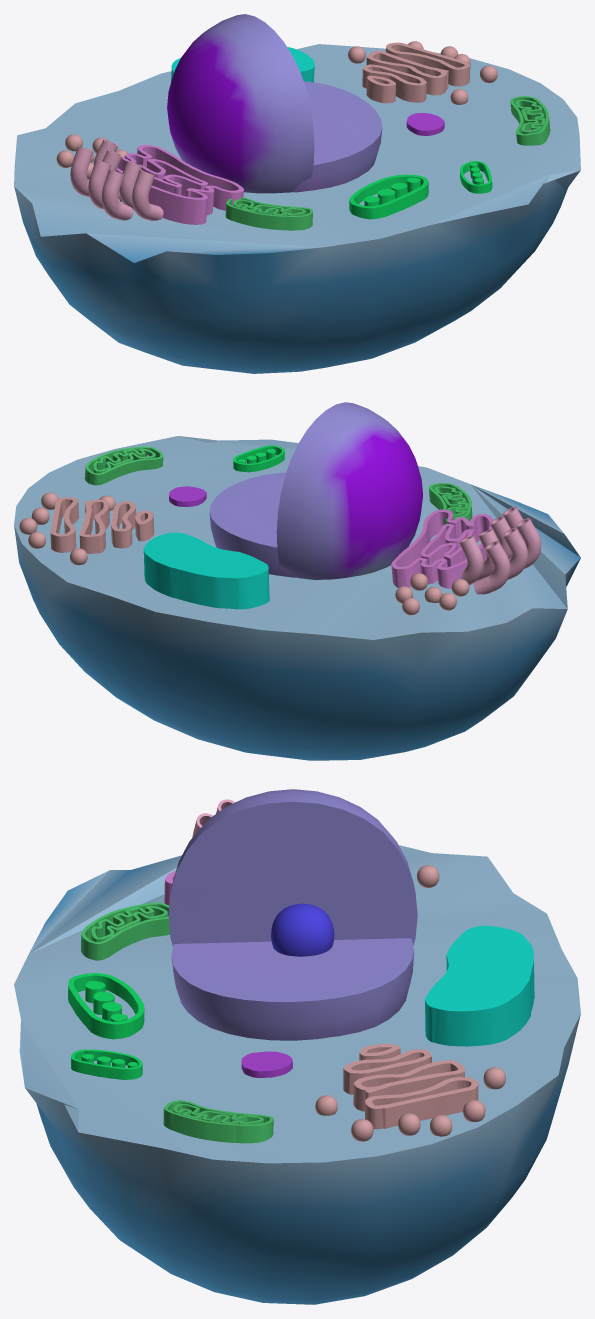
File: modelo-ligero.glb
3 views of the same model, one above another, from view 1: azimuth 30°, elevation 25°; view 2: azimuth 150°, elevation 25°; view 3: azimuth 270°, elevation 25° (orthographic). The views are drawn at different scales.
Parts seen in each view (by area): view 1: Object_2; view 2: Object_2; view 3: Object_2.
Boxes of the visible parts, left/top/right/bottom form: Object_2: left=14, top=14, right=580, bottom=373; Object_2: left=14, top=402, right=580, bottom=760; Object_2: left=14, top=789, right=580, bottom=1304.
Bounding box in the file's own units: 130 × 79.47 × 95.27.
